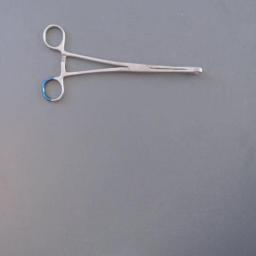Sponge Forceps: (38, 21, 206, 105)
